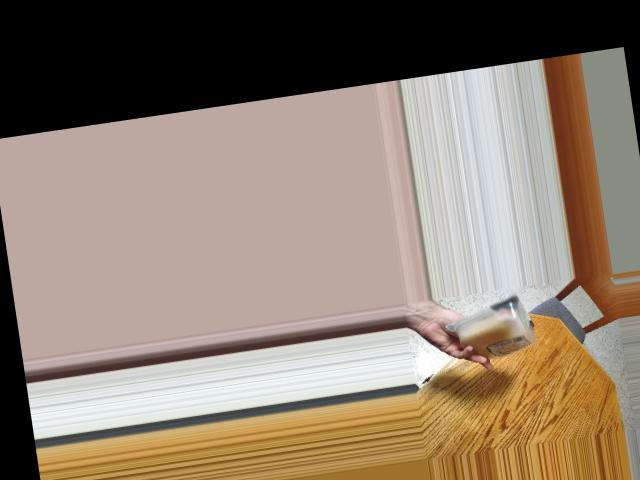cheese: (451, 294, 541, 366)
